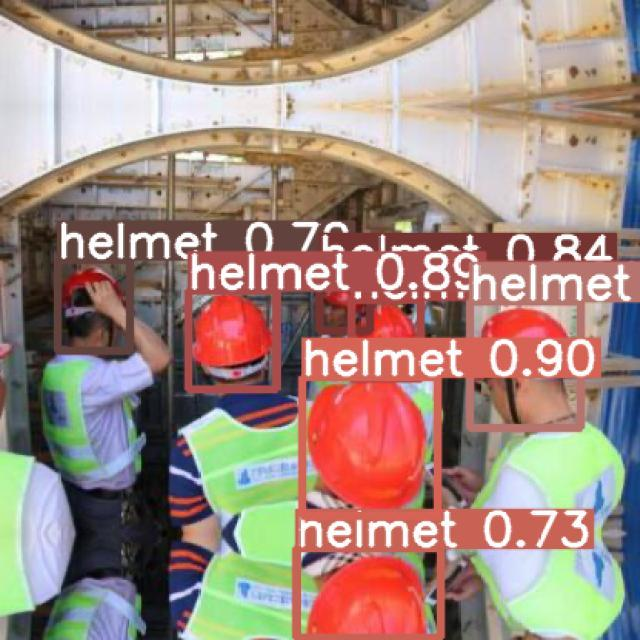Helmet: (191, 293, 272, 381), (61, 265, 125, 319)
